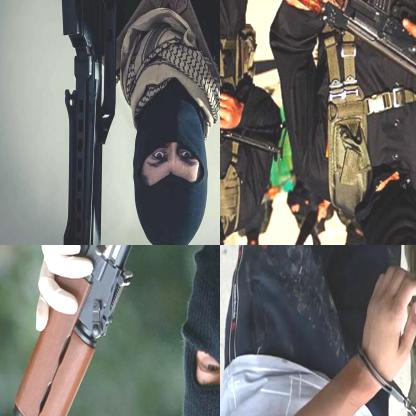rifle: (0, 245, 196, 415), (49, 0, 119, 244), (252, 0, 415, 88), (220, 46, 283, 163)
